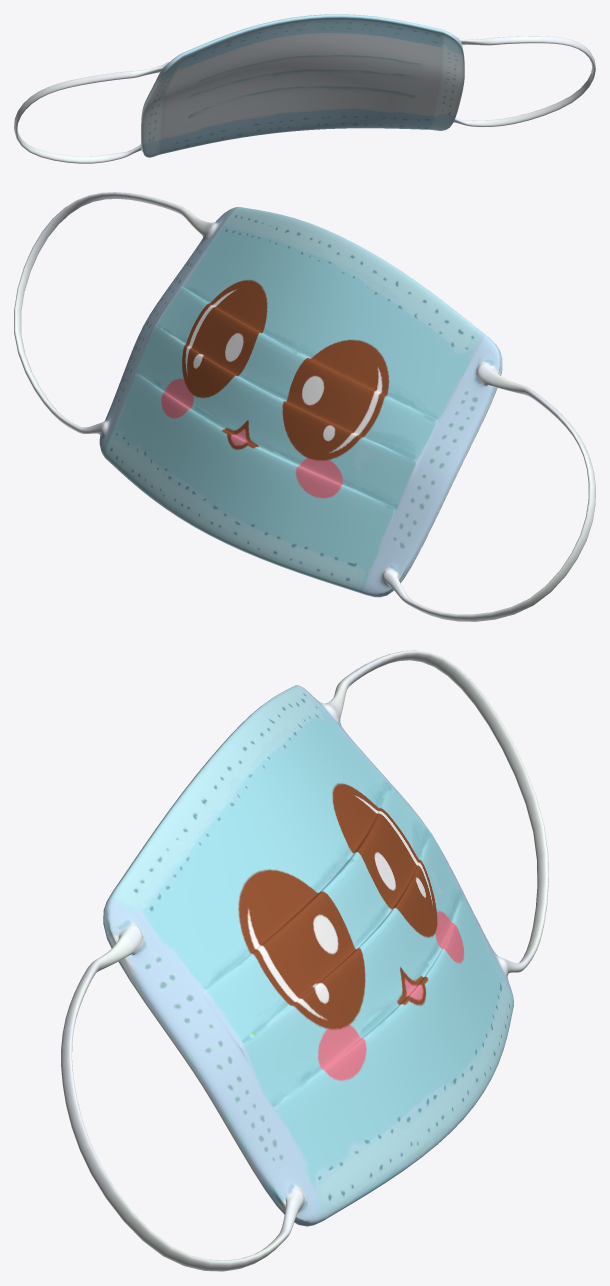
3 views of the same model, one above another, from view 1: azimuth 30°, elevation 25°; view 2: azimuth 150°, elevation 25°; view 3: azimuth 270°, elevation 25° (orthographic). The views are drawn at different scales.
Visible parts, largest first — view 1: pCube3; view 2: pCube3; view 3: pCube3.
Part boxes in pixels (x1,y1,x2,y2): pCube3: [14, 14, 595, 163]; pCube3: [14, 192, 595, 621]; pCube3: [61, 650, 548, 1271].
Bounding box in the file's own units: 3.26 × 1.11 × 1.42.
Materials: 1 (1 with a texture image).
